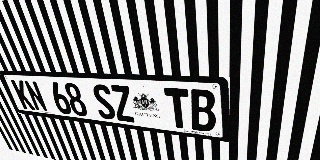6: (47, 82, 73, 115)
8: (62, 82, 89, 117)
B: (189, 89, 216, 133)
K: (10, 80, 36, 110)
N: (23, 80, 49, 112)
S: (90, 84, 117, 120)
T: (164, 88, 191, 130)
Z: (109, 85, 136, 123)
